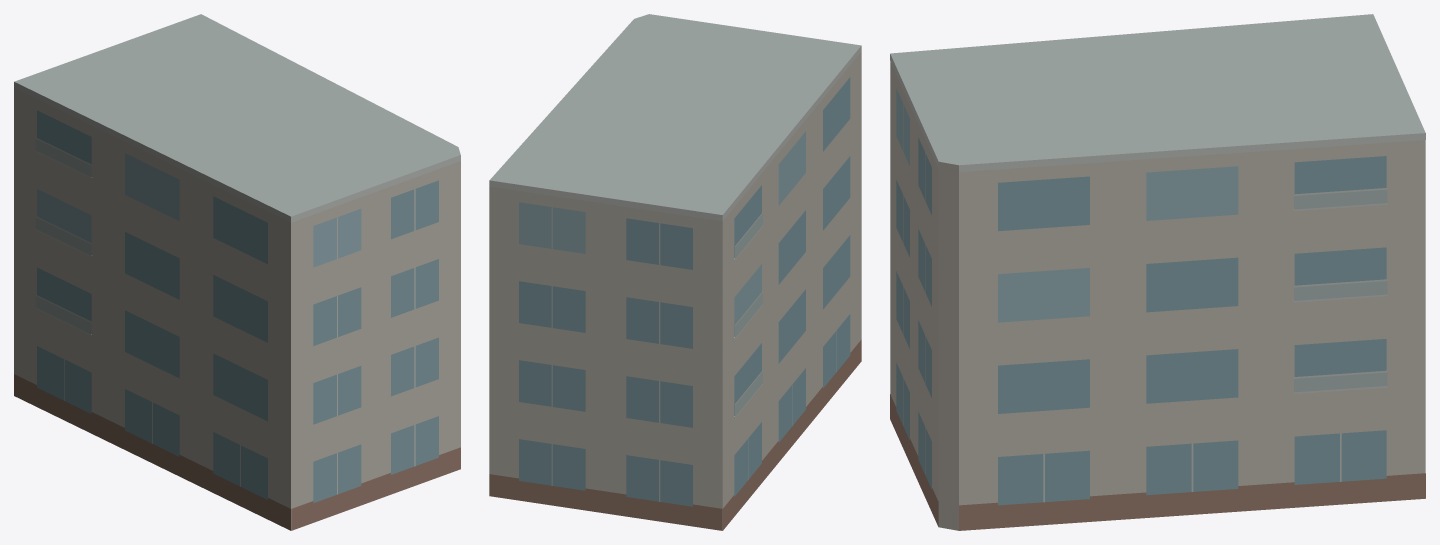
File: survey-upis-32474868.glb
3 renders of one model, left to right at view 1: azimuth 30°, elevation 25°; view 2: azimuth 150°, elevation 25°; view 3: azimuth 270°, elevation 25°, orthographic. The views are drawn at different scales.
Visible parts, largest first — view 1: survey-upis-32474868.tmp; view 2: survey-upis-32474868.tmp; view 3: survey-upis-32474868.tmp.
Part boxes in pixels (left/top/right/bottom): survey-upis-32474868.tmp: left=14, top=14, right=460, bottom=530; survey-upis-32474868.tmp: left=489, top=14, right=861, bottom=530; survey-upis-32474868.tmp: left=890, top=14, right=1425, bottom=530.
Bounding box in the file's own units: 11.27 × 12.7 × 16.87.
